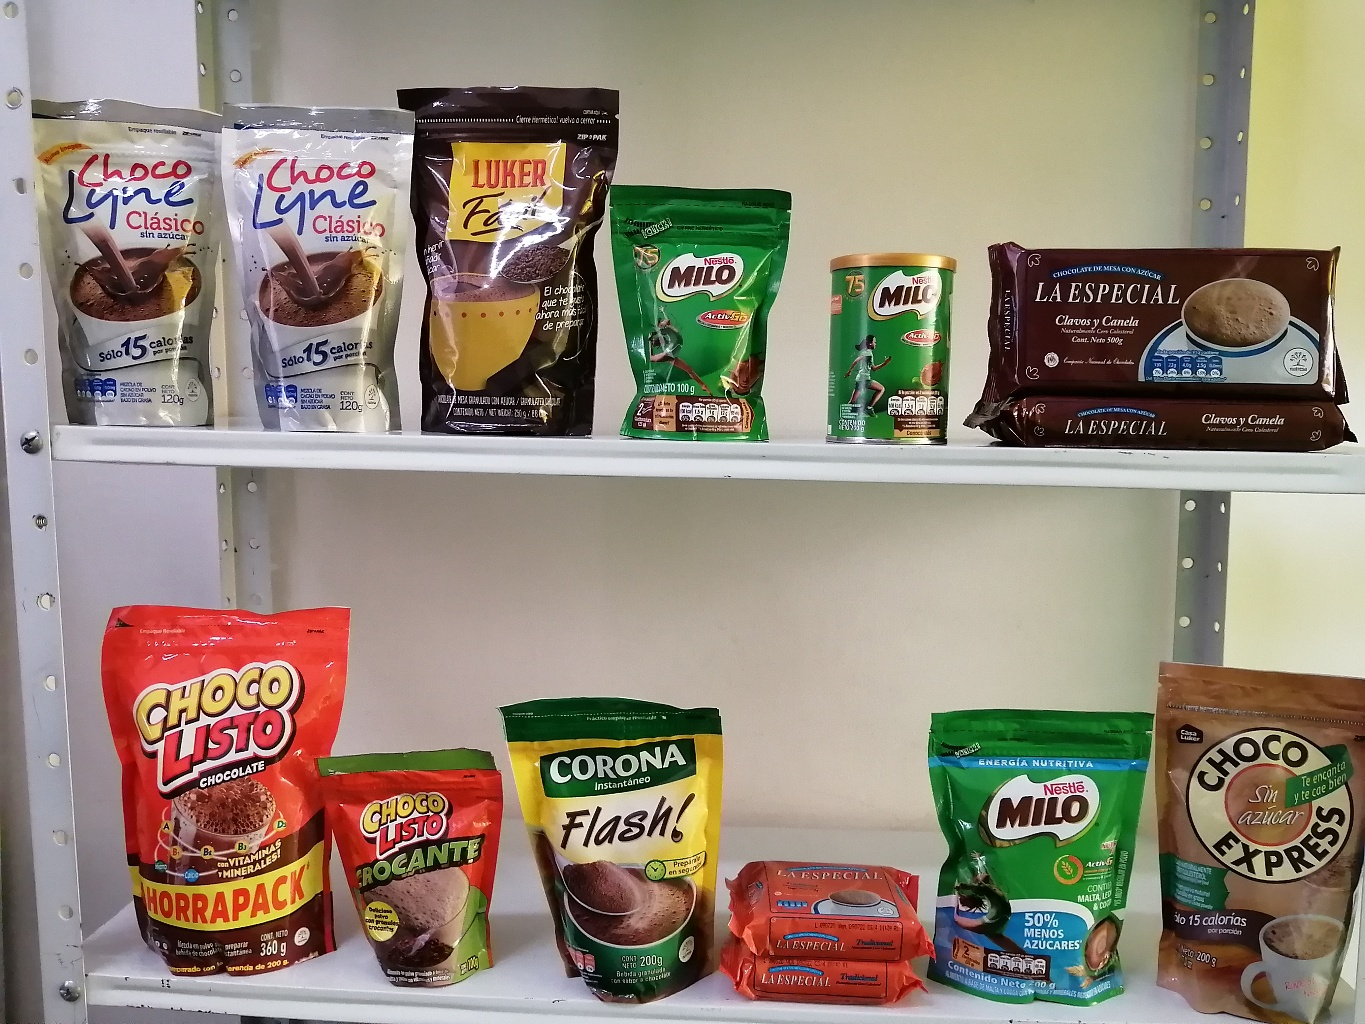COL0170102DYP10000: (312, 737, 511, 989)
COL0170103DYP36000: (104, 594, 344, 977)
COL0170203DYP10000: (606, 175, 802, 454)
COL0170203LAT20000: (826, 240, 967, 444)
COL0170205DYP20000: (921, 708, 1146, 1011)
